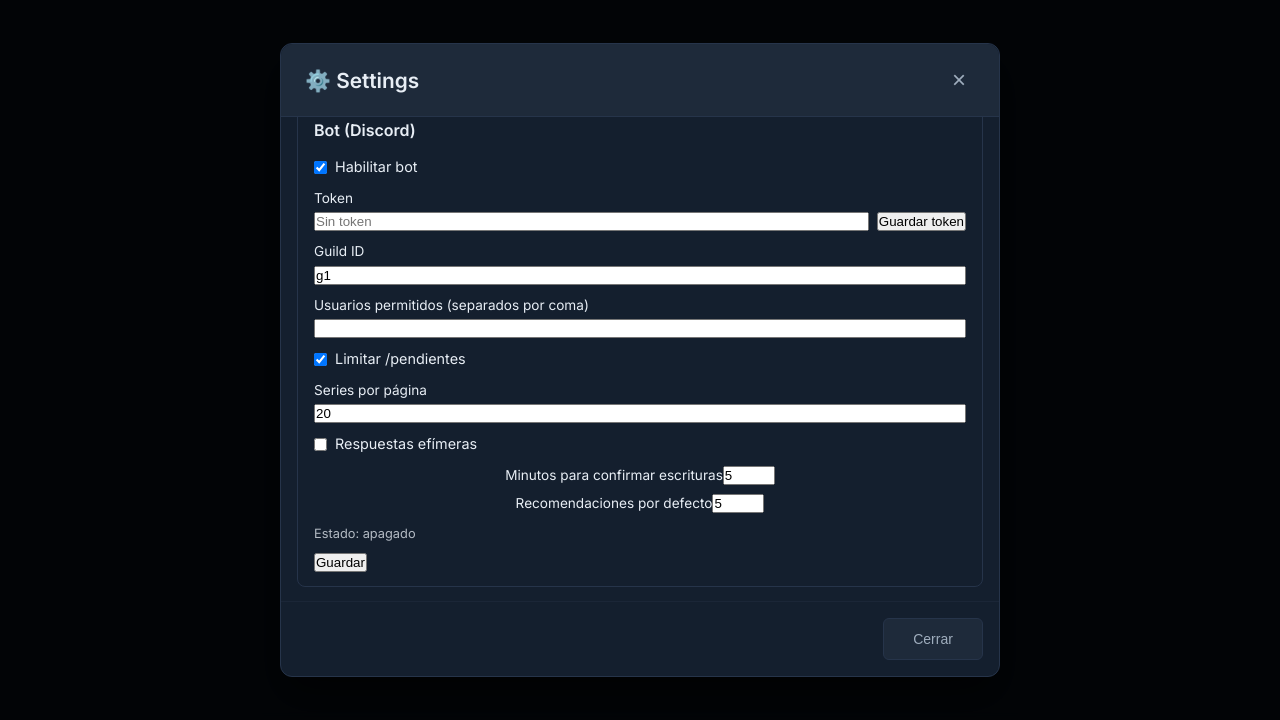
Test: SettingsModal › deshabilita la cantidad cuando el tope está apagado
(page scrolled)
Expected: the heading "Bot (Discord)" is shown, [314, 120, 416, 140]
What coordinates should you click on to do the following:
click the checkbox labelled "Limitar /pendientes"
I would click on:
 (320, 359)
Its box is [314, 352, 327, 366].
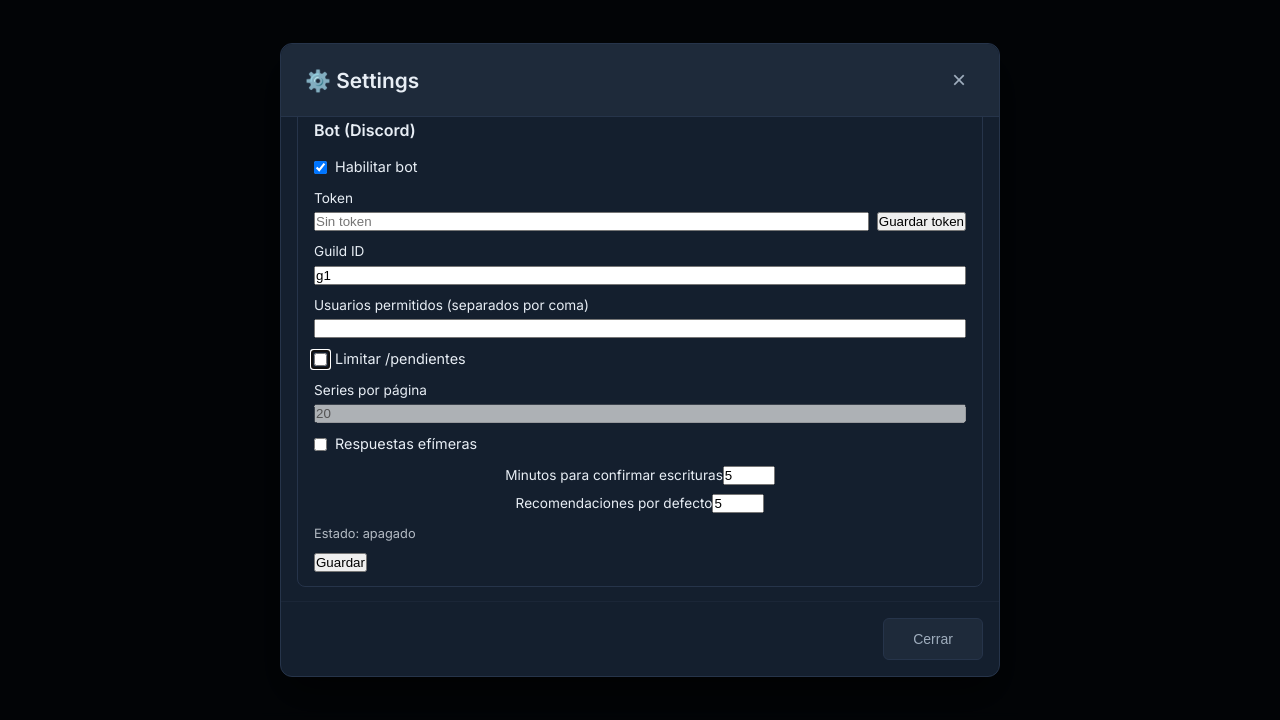
Result: the number field named "Series máximas en /pendientes" is disabled at [314, 404, 966, 423]
